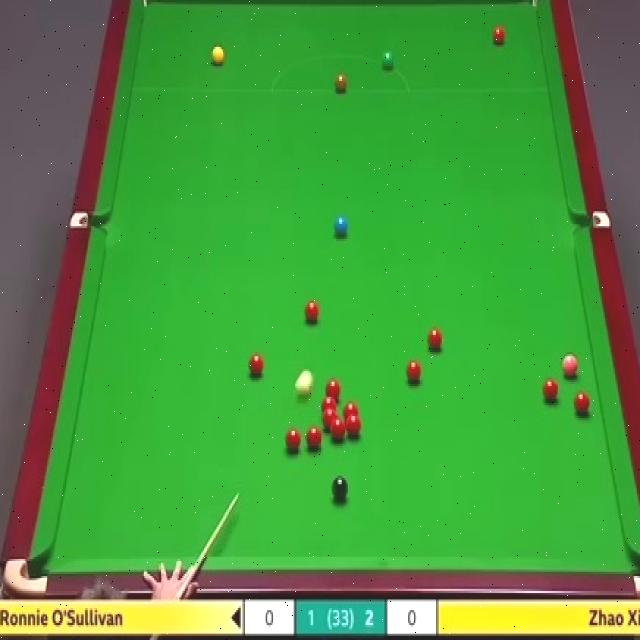black-ball: (332, 474, 348, 505)
blue-ball: (333, 216, 349, 238)
brown-ball: (333, 72, 348, 94)
green-ball: (380, 51, 394, 71)
pink-ball: (562, 352, 578, 379)
red-ball: (305, 424, 323, 454), (248, 352, 266, 381), (544, 378, 562, 403), (345, 414, 362, 440), (405, 360, 422, 386), (574, 392, 592, 416), (284, 427, 301, 452), (428, 326, 443, 353), (304, 301, 320, 324), (331, 417, 345, 441), (324, 379, 341, 397), (322, 409, 337, 429), (321, 395, 336, 412), (493, 27, 506, 44), (344, 404, 358, 418)
white-ball: (295, 370, 313, 401)
yellow-ball: (212, 46, 226, 68)
